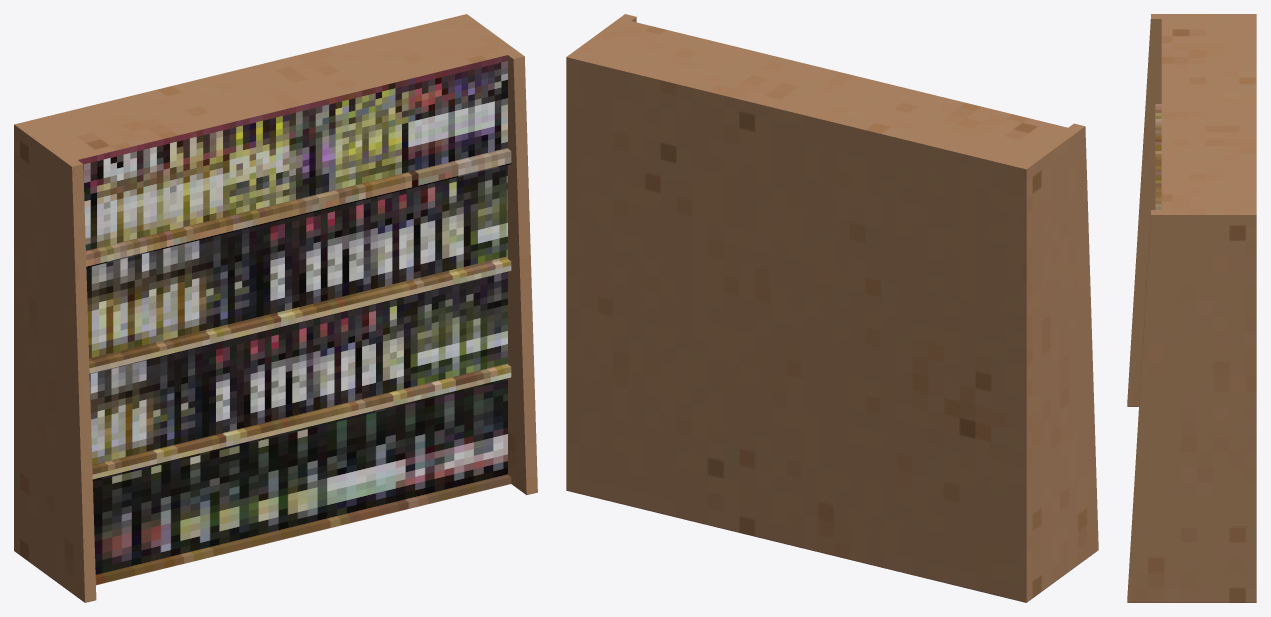
File: Estante_Bebidas.fbx
3 views of the same model, side by side, from view 1: azimuth 30°, elevation 25°; view 2: azimuth 150°, elevation 25°; view 3: azimuth 270°, elevation 25° (orthographic). The views are drawn at different scales.
Visible parts, largest first — view 1: Estante_bebidas; view 2: Estante_bebidas; view 3: Estante_bebidas.
Part boxes in pixels (x1,y1,x2,y2): Estante_bebidas: (14,14,537,602); Estante_bebidas: (566,14,1098,602); Estante_bebidas: (1127,14,1256,602).
Bounding box in the file's own units: 200 × 180 × 54.36.
1 material, 1 textured.
